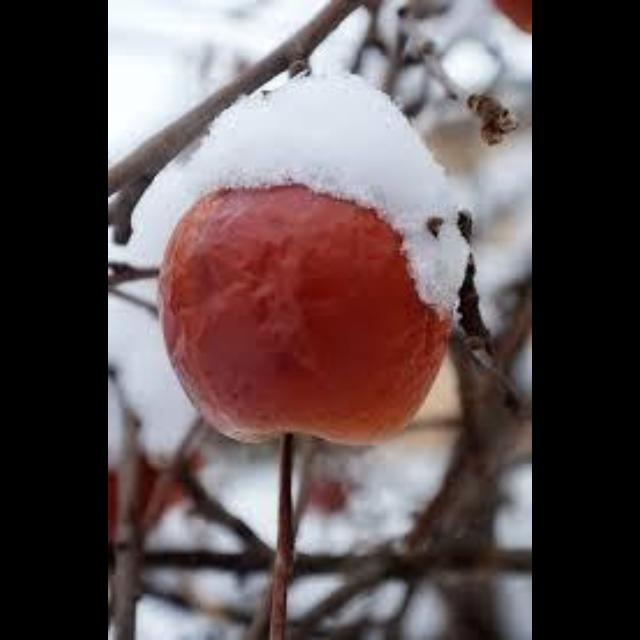apple: (161, 186, 447, 443)
